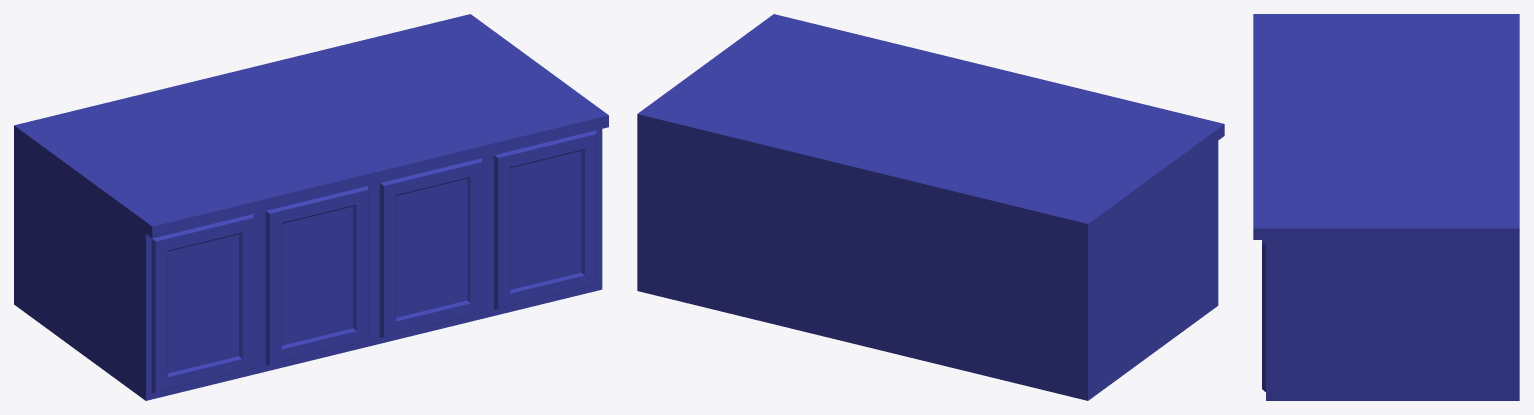
Rendered from counterB_2x1-5x4.FBX.
3 renders of one model, left to right at view 1: azimuth 30°, elevation 25°; view 2: azimuth 150°, elevation 25°; view 3: azimuth 270°, elevation 25°, orthographic. The views are drawn at different scales.
Parts seen in each view (by area): view 1: counterB_wood, counterB_marble; view 2: counterB_wood, counterB_marble; view 3: counterB_marble, counterB_wood.
Part boxes in pixels (bbox=[...]): counterB_wood: bbox=[14, 129, 602, 400]; counterB_marble: bbox=[14, 14, 608, 238]; counterB_wood: bbox=[637, 126, 1218, 400]; counterB_marble: bbox=[637, 14, 1224, 235]; counterB_marble: bbox=[1253, 14, 1519, 239]; counterB_wood: bbox=[1262, 240, 1519, 400].
Size of the model in its own units: 4 by 1.5 by 2.1.
